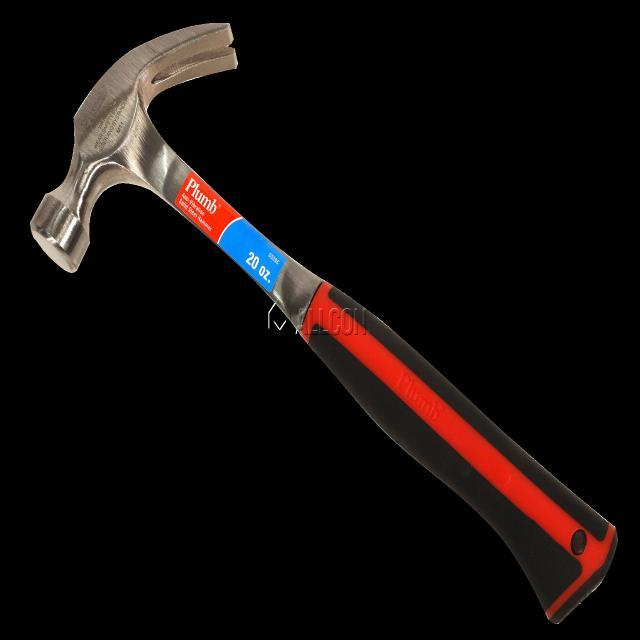hammer: (26, 0, 622, 639)
